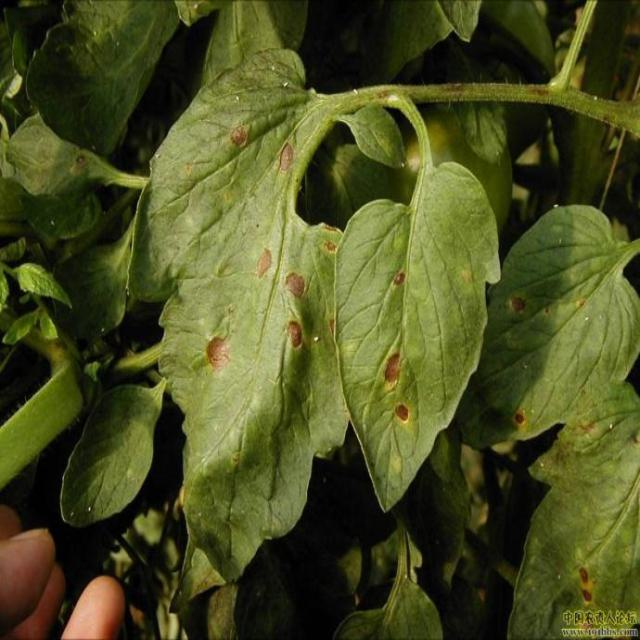Early_blight: (208, 336, 235, 372), (282, 318, 309, 350), (382, 348, 403, 386), (576, 566, 596, 604), (254, 246, 276, 280), (283, 271, 308, 299), (275, 139, 296, 171), (228, 121, 249, 146), (508, 293, 527, 316), (509, 409, 531, 428), (393, 403, 411, 422), (393, 268, 406, 290)
